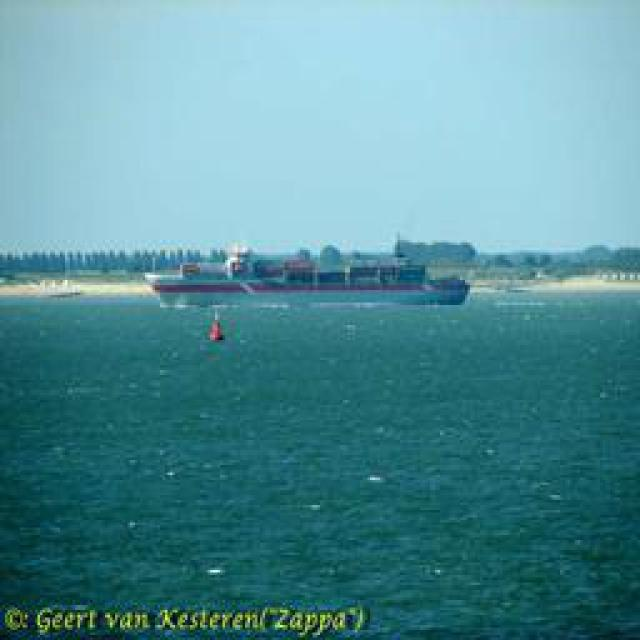Ship: (131, 244, 464, 309)
